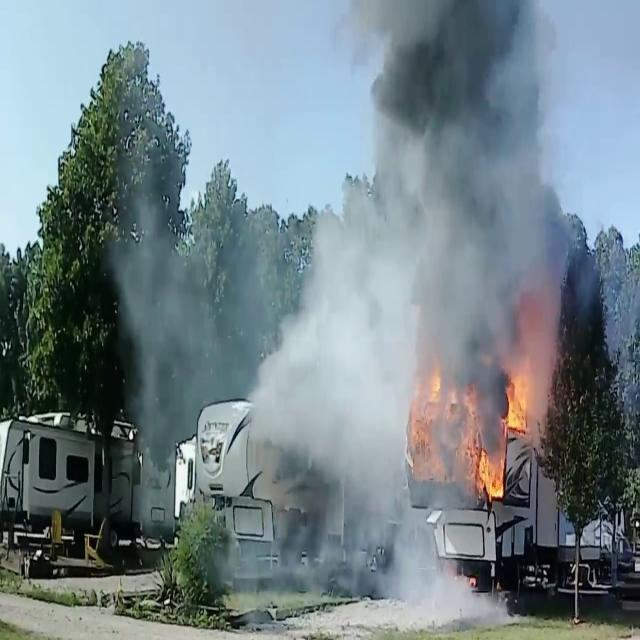Fire: (501, 359, 535, 437), (474, 436, 506, 504)
Smoke: (104, 172, 450, 589), (339, 1, 579, 355), (104, 156, 256, 491)
